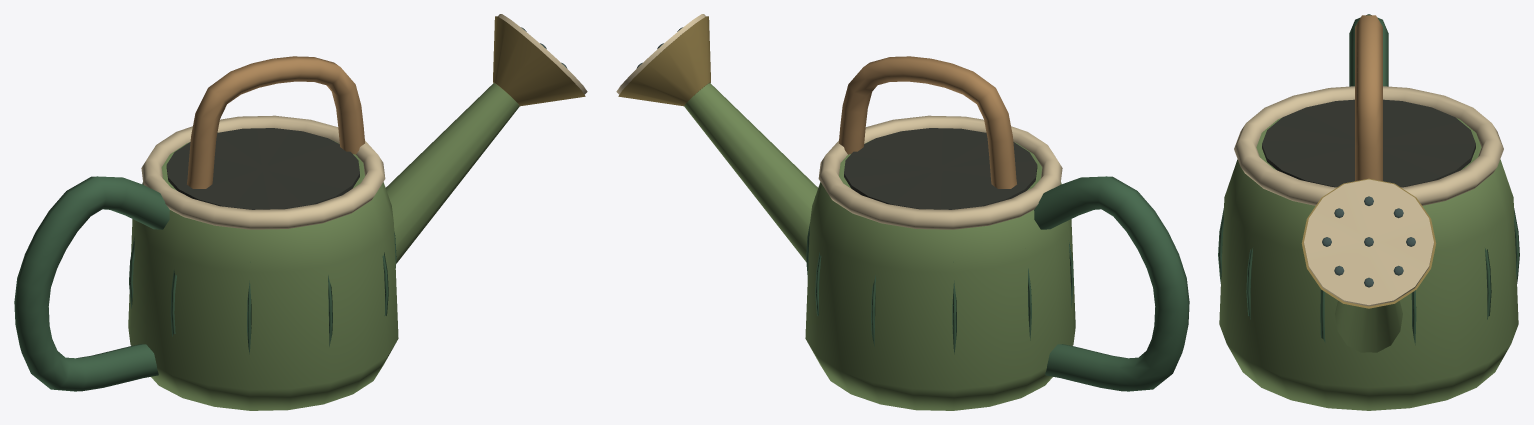
Rendered from regadera.glb.
3 renders of one model, left to right at view 1: azimuth 30°, elevation 25°; view 2: azimuth 150°, elevation 25°; view 3: azimuth 270°, elevation 25°, orthographic. The views are drawn at different scales.
Visible parts, largest first — view 1: regadera; view 2: regadera; view 3: regadera.
Part boxes in pixels (x1,y1,x2,y2): regadera: [14, 14, 587, 410]; regadera: [616, 14, 1189, 410]; regadera: [1218, 14, 1519, 410].
Bounding box in the file's own units: 1.27 × 0.643 × 0.5386.
